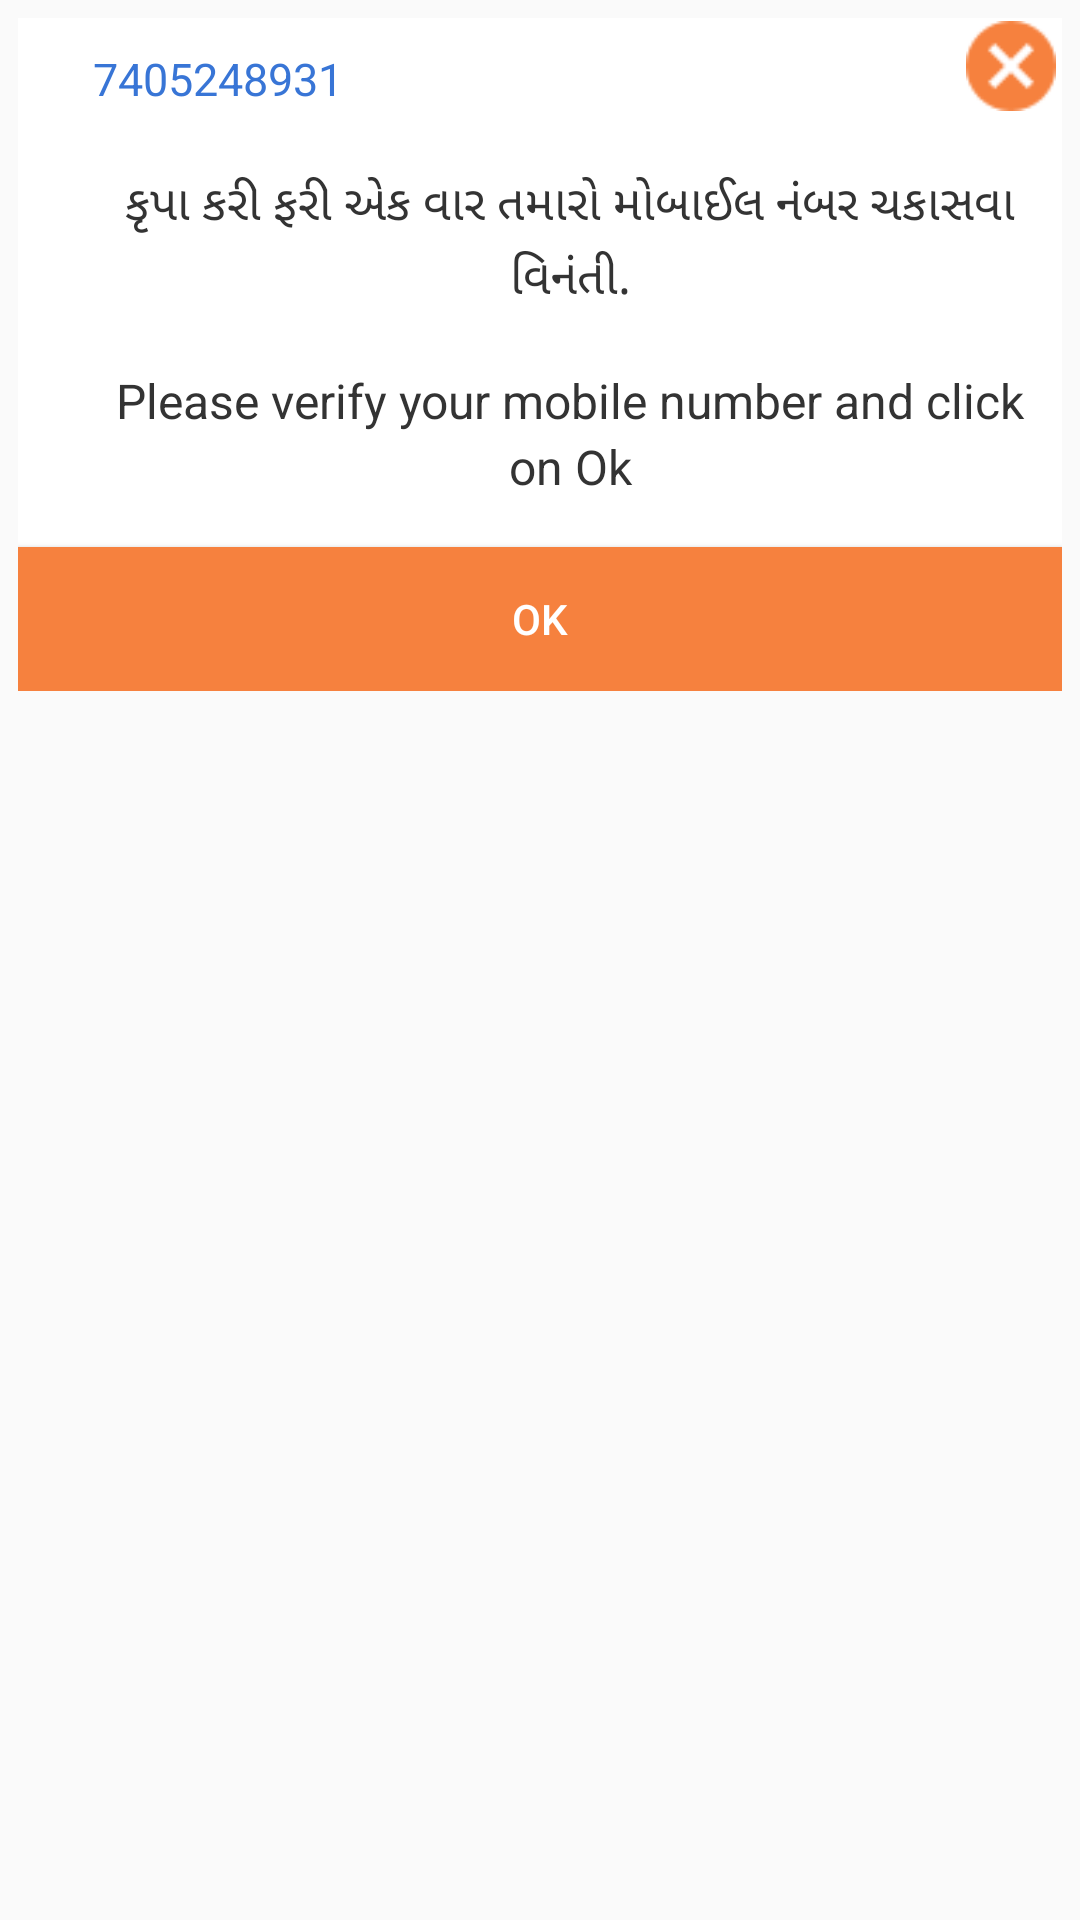

Screen size 1080w x 1920h. Icon name, then its center in pixels as [x,y]:
cancel: [1011,66]
